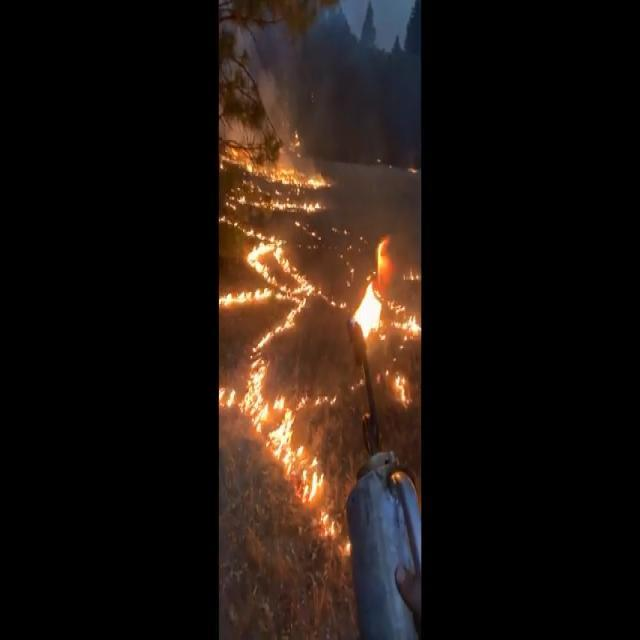Fire: (220, 138, 420, 565)
